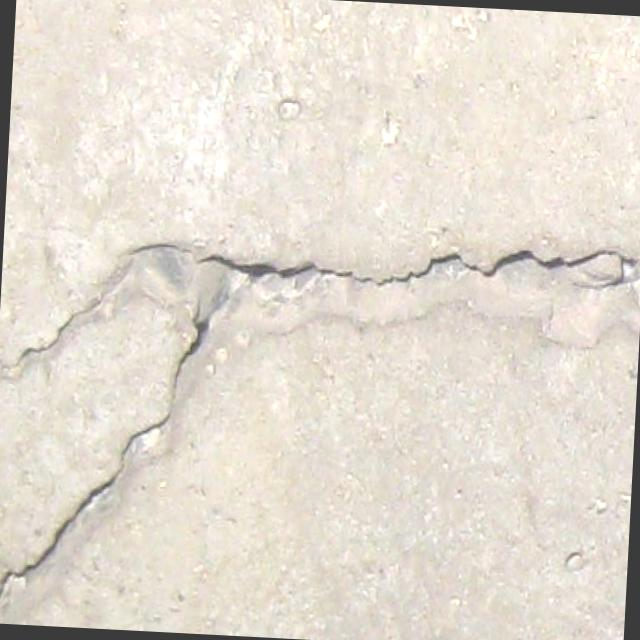crack: (0, 340, 202, 626), (0, 263, 115, 383)
spall: (111, 213, 640, 370)
